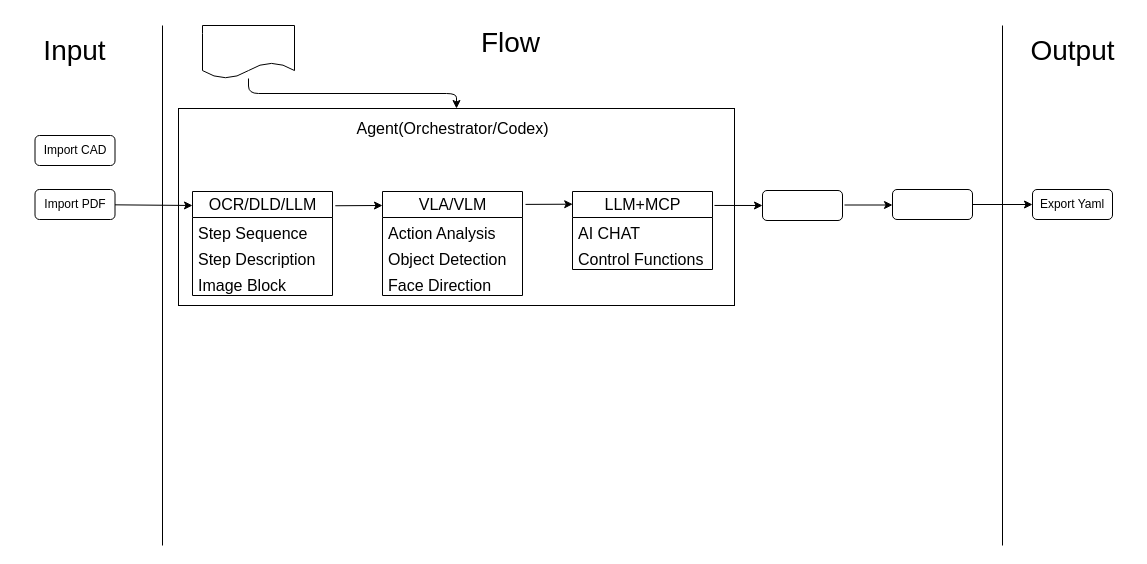
Some shapes in this 1147 by 564 pixel diagram are drawn without their labels. The box of each missing label's shape, as (x1, y1, x2, y2) in pixels:
DOCS: (202, 24, 294, 78)
FineTune: (892, 188, 972, 220)
Produce sop: (762, 190, 842, 220)
